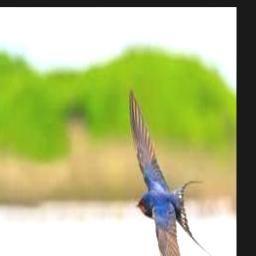Swallow: (130, 86, 212, 256)
